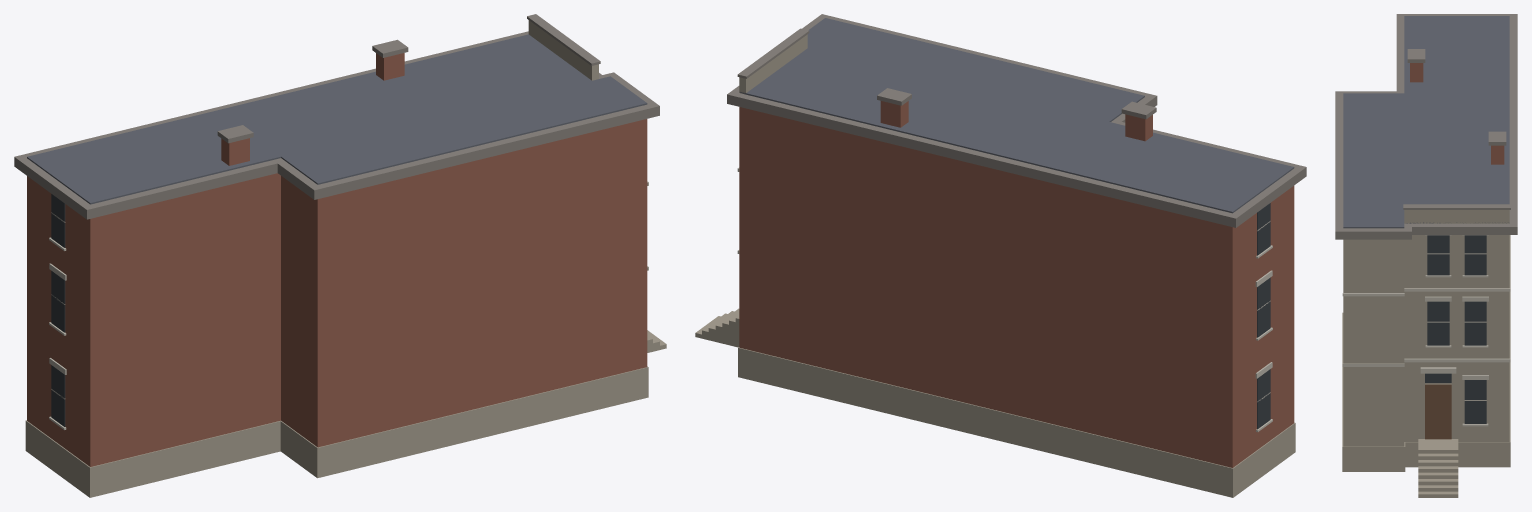
The model's file is house_1636_prairie__draft_1904.glb.
3 views of the same model, side by side, from view 1: azimuth 30°, elevation 25°; view 2: azimuth 150°, elevation 25°; view 3: azimuth 270°, elevation 25° (orthographic). The views are drawn at different scales.
Visible parts, largest first — view 1: house_1636_prairie__draft_1904; view 2: house_1636_prairie__draft_1904; view 3: house_1636_prairie__draft_1904.
Boxes of the visible parts, left/top/right/bottom form: house_1636_prairie__draft_1904: left=14, top=14, right=666, bottom=497; house_1636_prairie__draft_1904: left=695, top=14, right=1306, bottom=497; house_1636_prairie__draft_1904: left=1335, top=14, right=1517, bottom=497.
Bounding box in the file's own units: 25.65 × 13.34 × 8.2.
